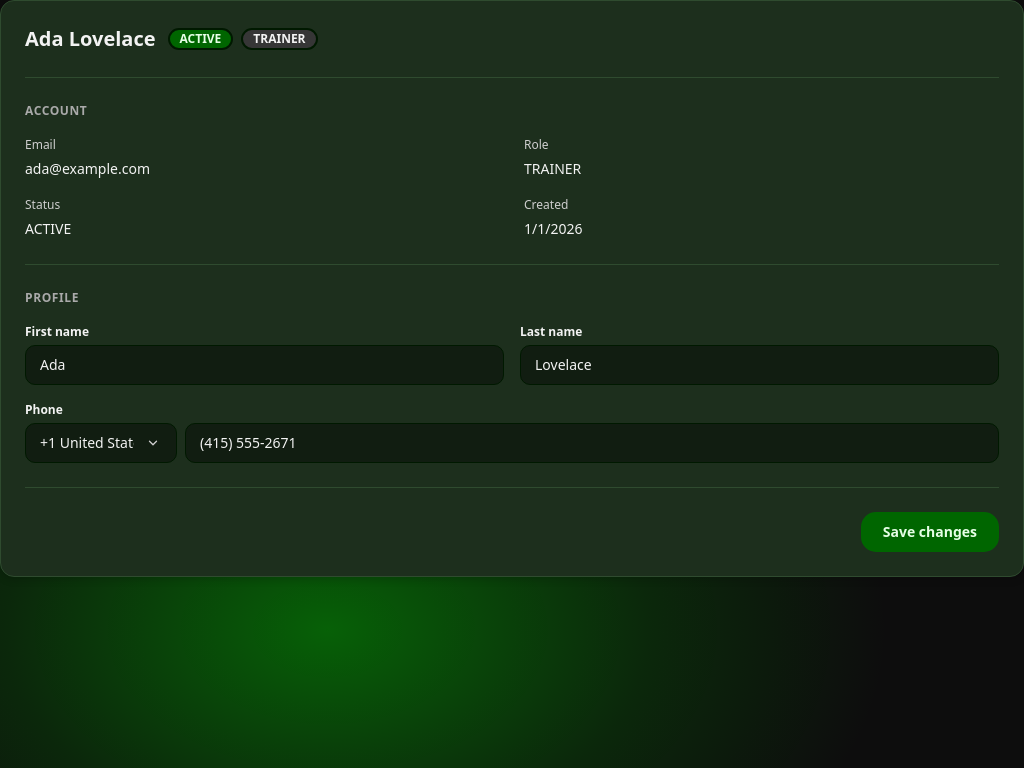
UserDetailForm › shows an error message when the save fails
Click the button "Save changes" at (930, 532), box top-left (861, 512), bottom-right (999, 552)
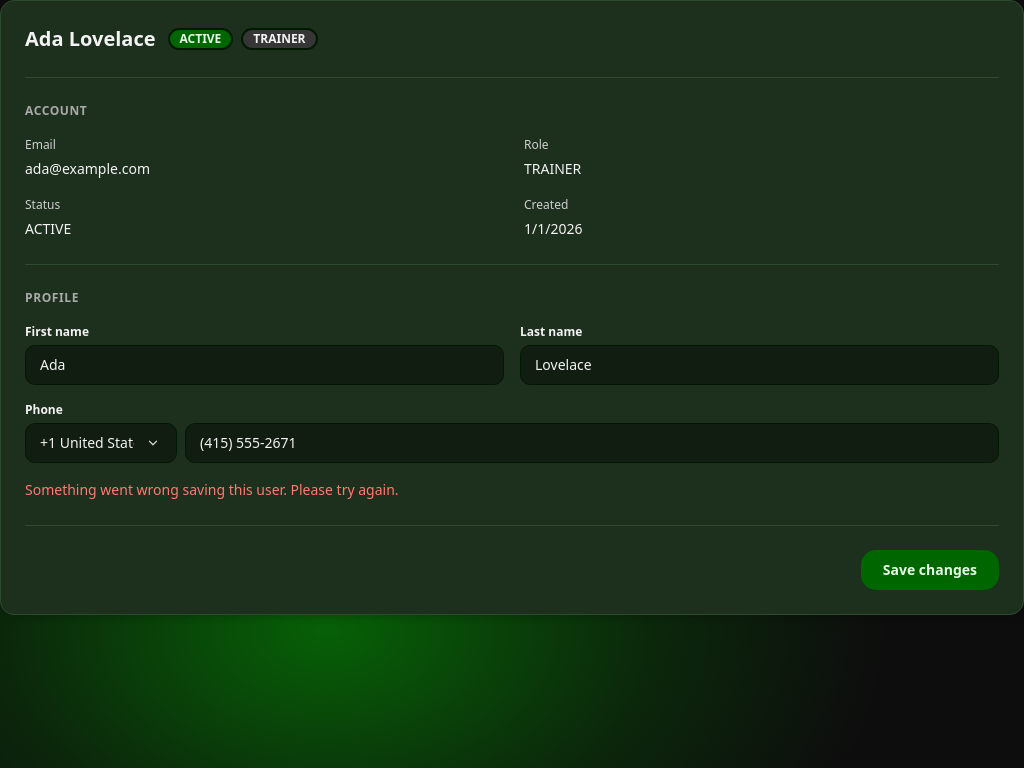
Expected: the text "Something went wrong saving this user. Please try again." is shown, top-left (25, 480), bottom-right (398, 499)
